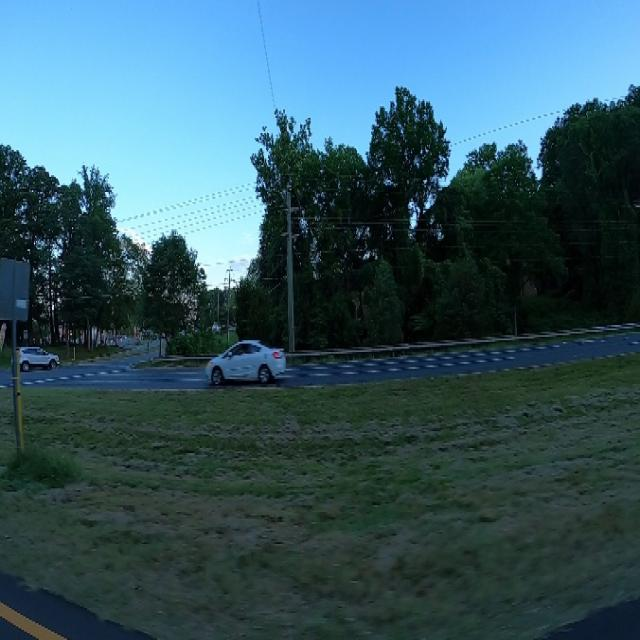car: (202, 327, 288, 391), (10, 330, 60, 376)
